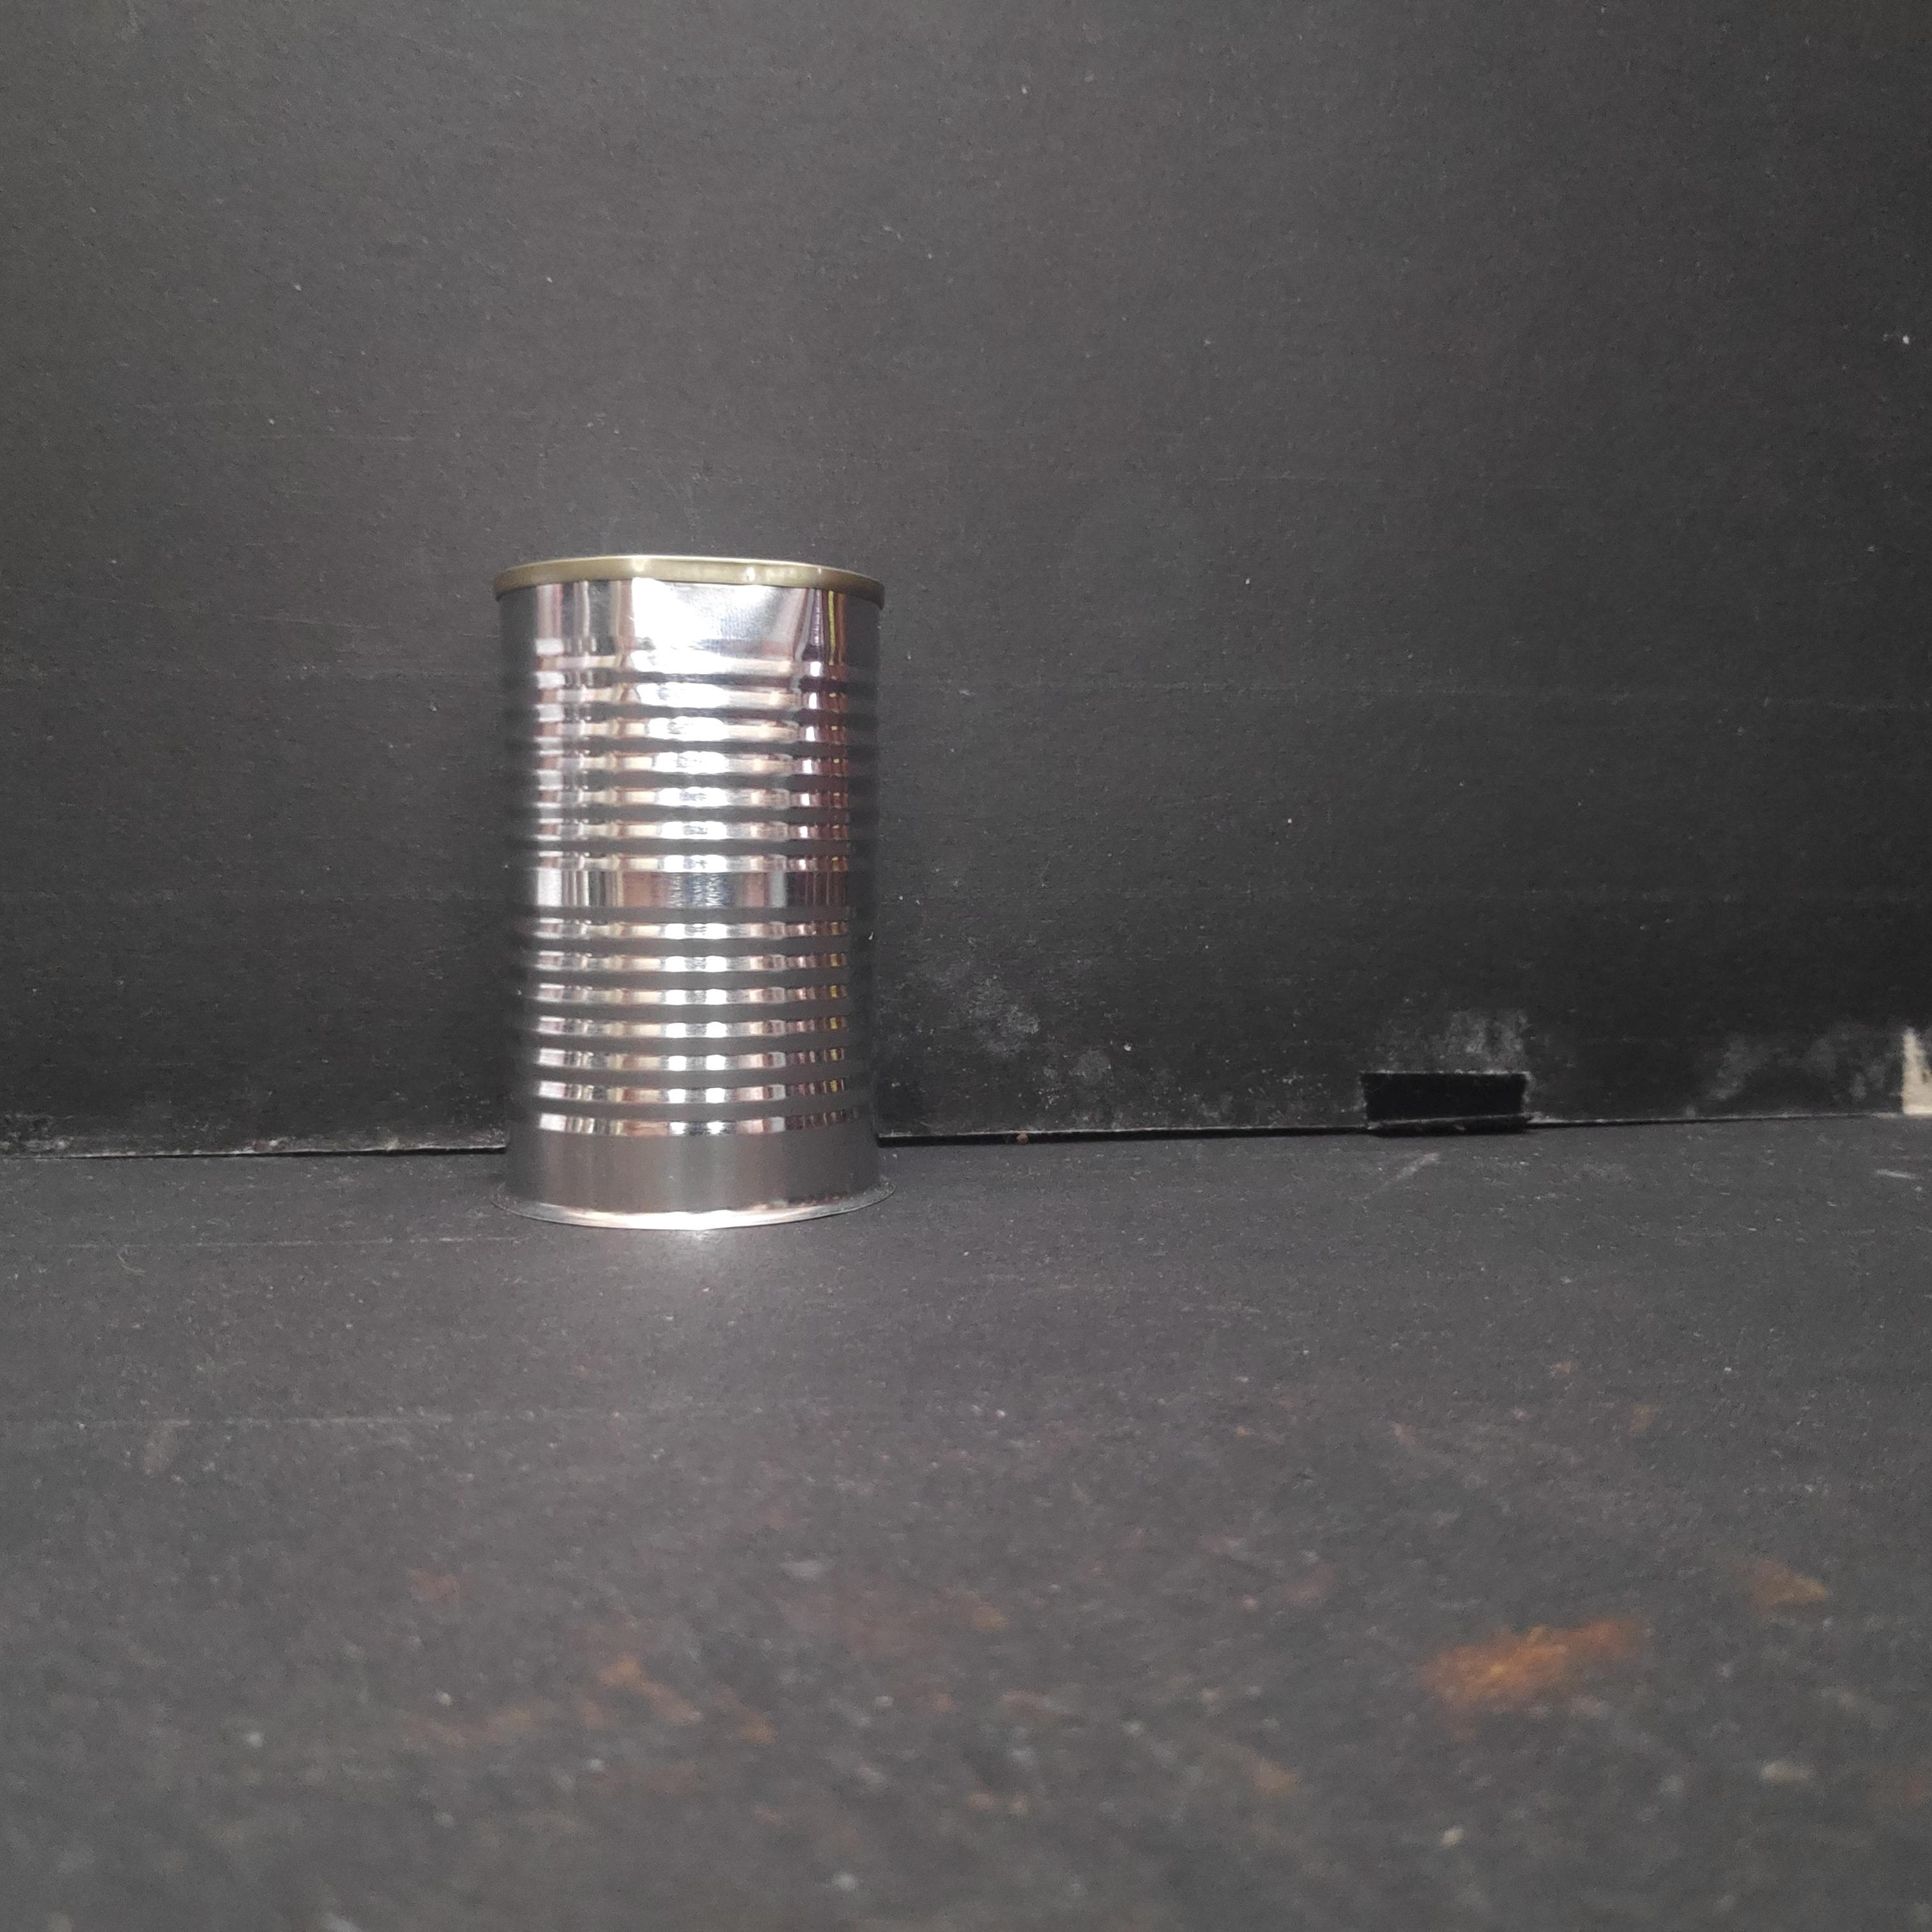Minor Defect: (480, 540, 898, 1235)
